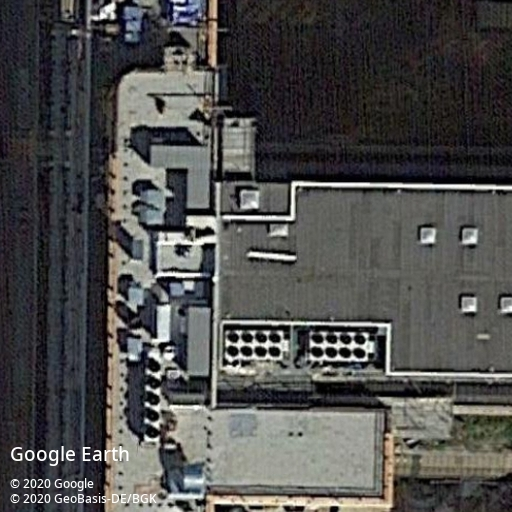Chiller: (223, 330, 289, 360), (309, 331, 375, 361), (143, 345, 161, 443)
